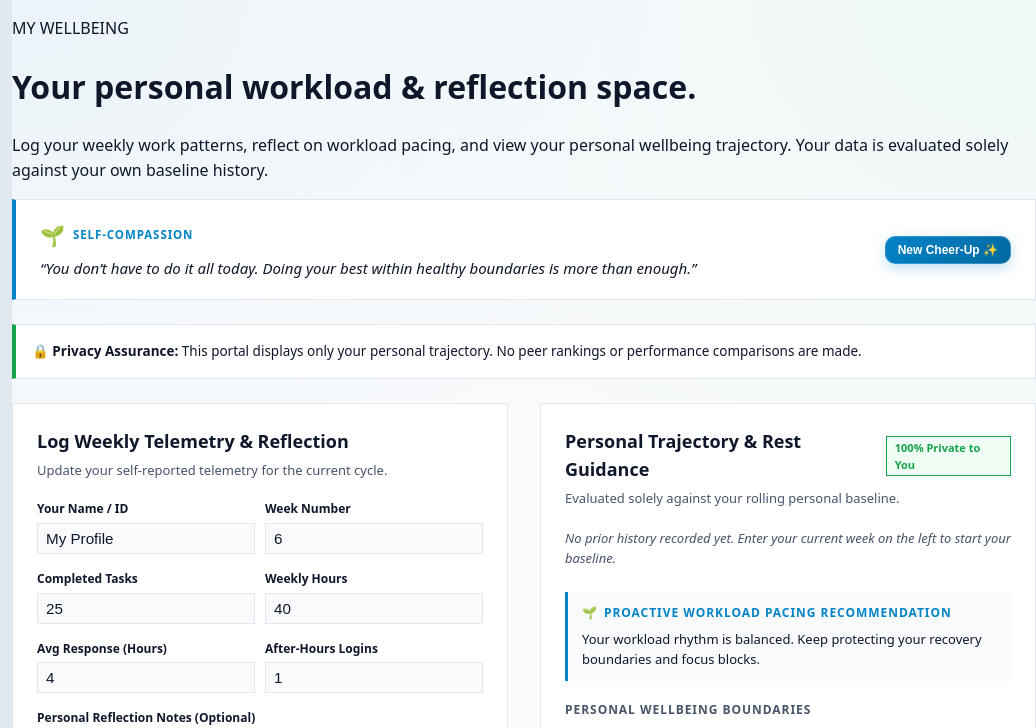
Test: EmployeePortal › renders daily cheer-up card and cycles to next quote on button click
The width and height of the screenshot is (1036, 728).
Expected: the text "Self-Compassion" is shown, [73,226,193,244]
Click the button "New Cheer-Up ✨": (948, 250) [885,236,1011,264]
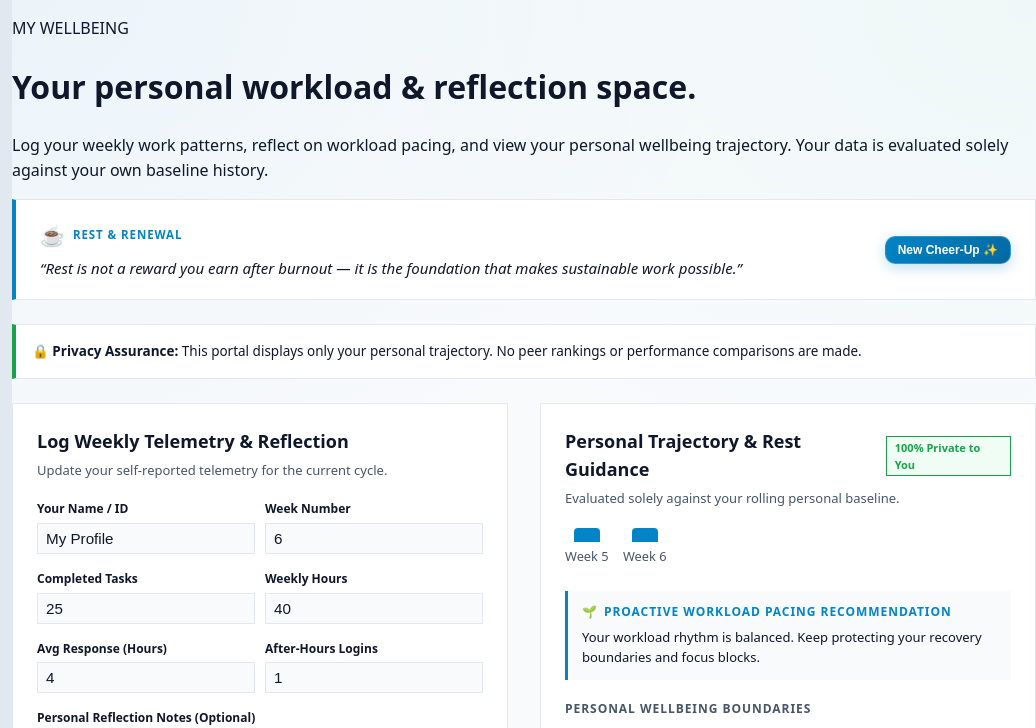
Now the text "Rest & Renewal" is shown, box [73,226,182,244]
